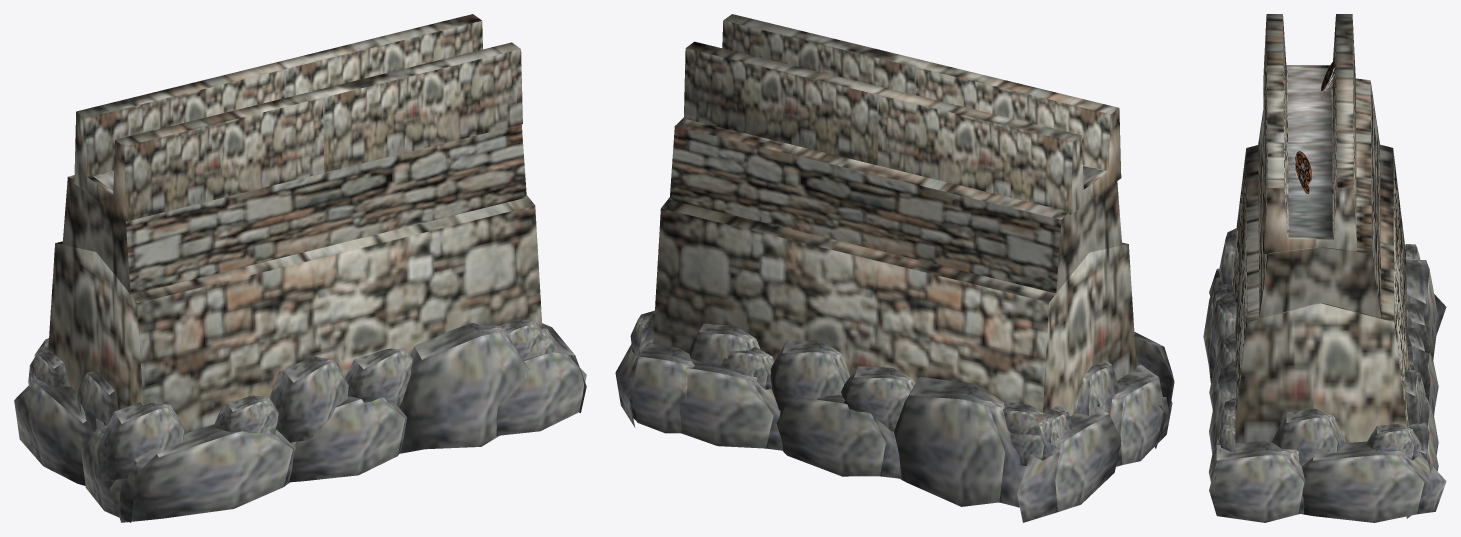
Rendered from lusi_wall_med.dae.
3 renders of one model, left to right at view 1: azimuth 30°, elevation 25°; view 2: azimuth 150°, elevation 25°; view 3: azimuth 270°, elevation 25°, orthographic. The views are drawn at different scales.
Parts seen in each view (by area): view 1: wall_MED_001; view 2: wall_MED_001; view 3: wall_MED_001.
Boxes of the visible parts, bbox=[...] form: wall_MED_001: bbox=[14, 14, 586, 522]; wall_MED_001: bbox=[615, 14, 1174, 522]; wall_MED_001: bbox=[1203, 14, 1446, 522].
Bounding box in the file's own units: 29.06 × 14.27 × 20.91.
